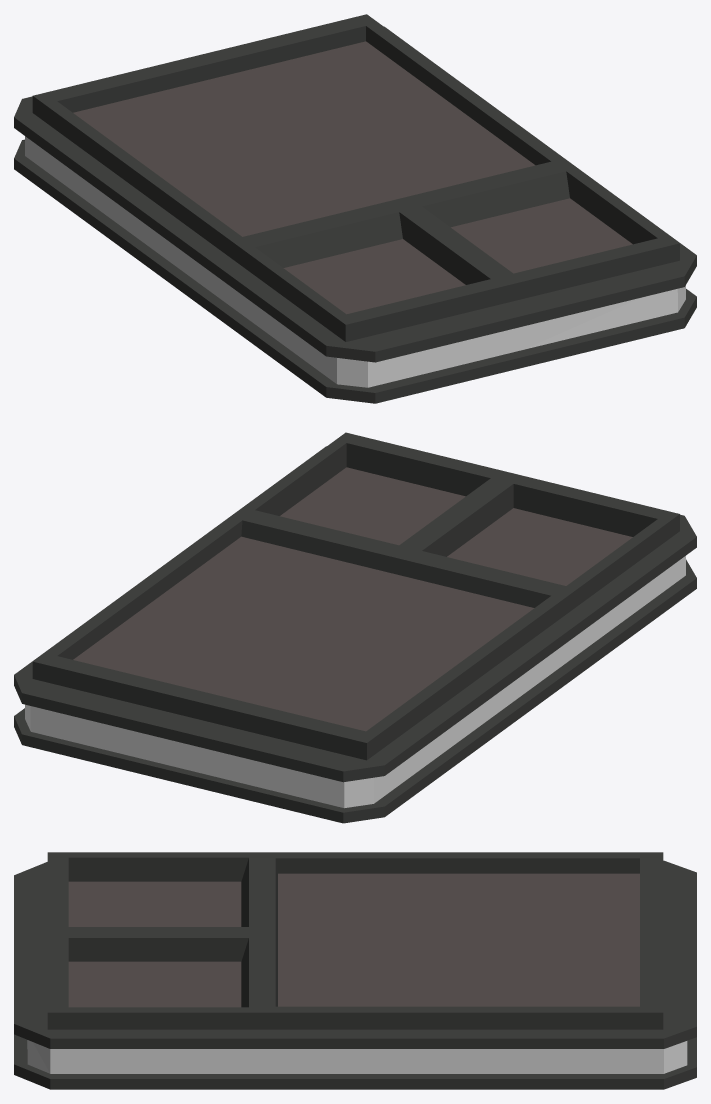
The model's file is Engine.dae.
3 views of the same model, one above another, from view 1: azimuth 30°, elevation 25°; view 2: azimuth 150°, elevation 25°; view 3: azimuth 270°, elevation 25° (orthographic).
Parts seen in each view (by area): view 1: Engine1; view 2: Engine1; view 3: Engine1.
Part boxes in pixels (x1,y1,x2,y2): Engine1: (14, 14, 696, 403); Engine1: (14, 432, 696, 823); Engine1: (14, 852, 696, 1089).
Bounding box in the file's own units: 0.6017 × 0.9764 × 0.1076.
Materials: 2 (1 with a texture image).
